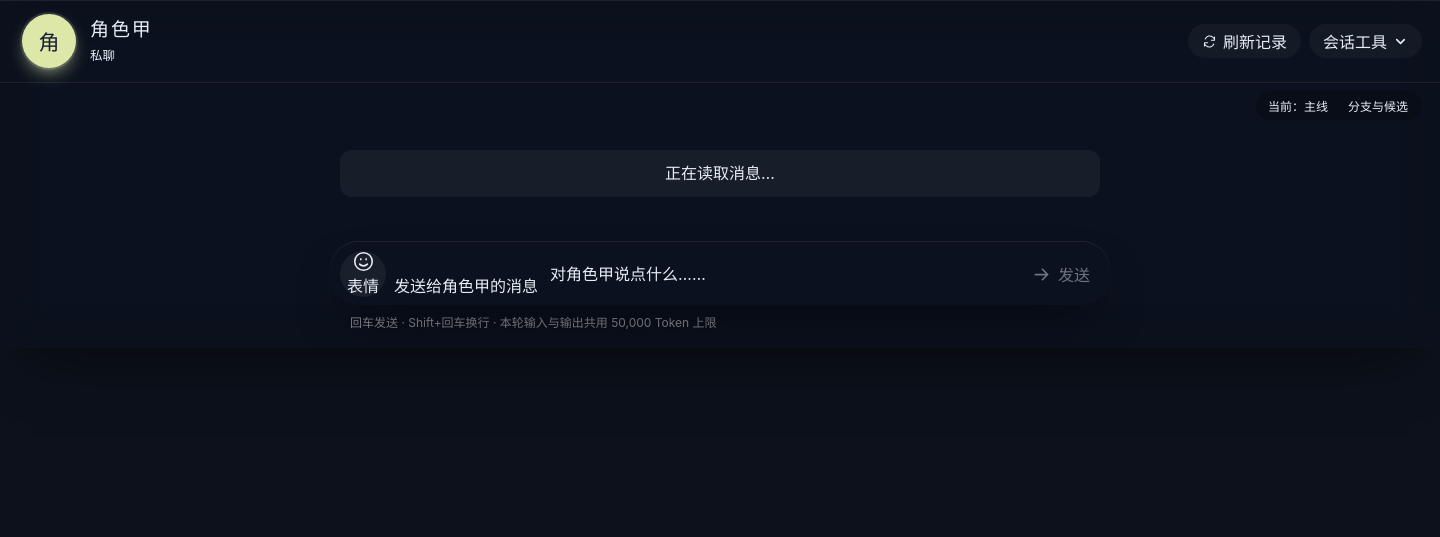
keeps a saved player message and offers no misleading settings action or automatic retry
Type "合成问题" into the text box at (778, 273), box [546,249,1011,297]
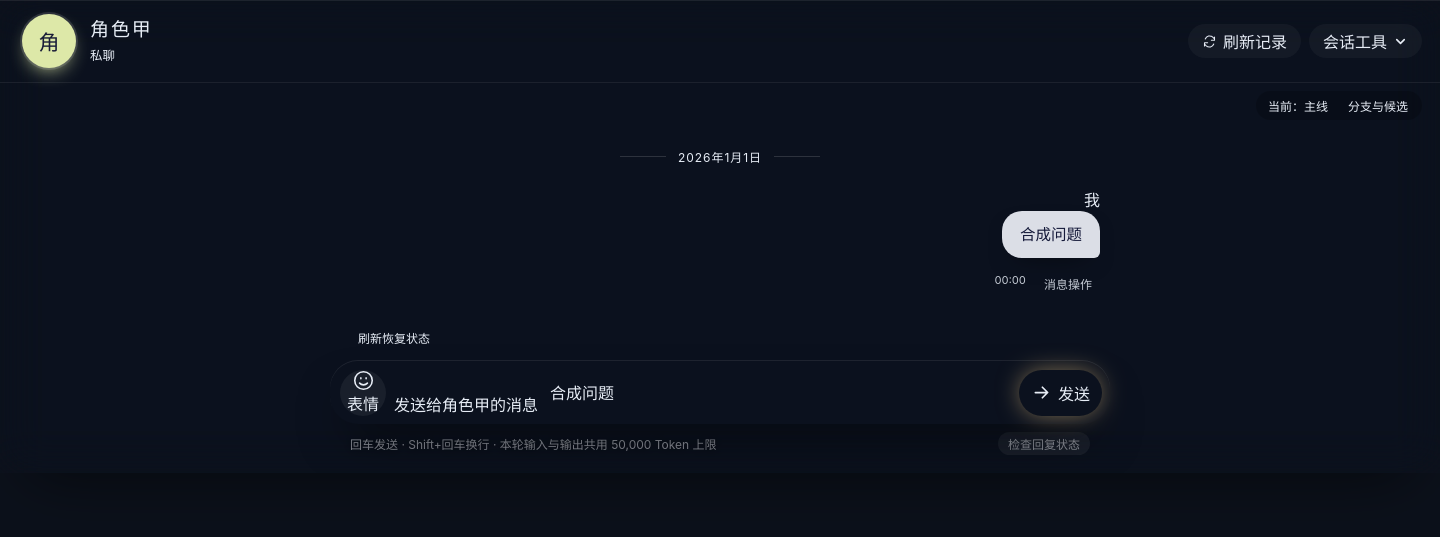
Click the button "发送" at (1060, 392), box [1019,370,1102,416]
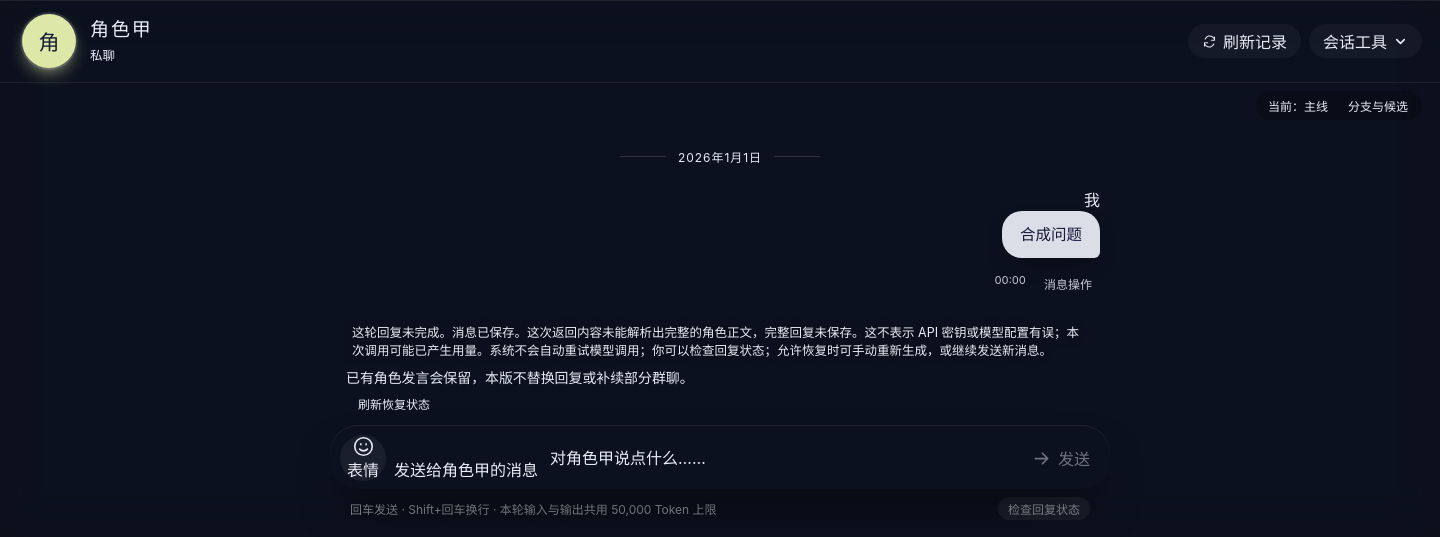
Check: the text "合成问题" is shown, box [1020,221,1082,248]
Check: the text "未能解析出完整的角色正文" is shown, box [352,324,1079,358]
